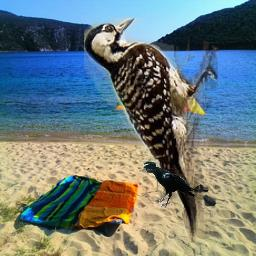Crow: (142, 161, 196, 208)
Woodpecker: (84, 18, 218, 243)
